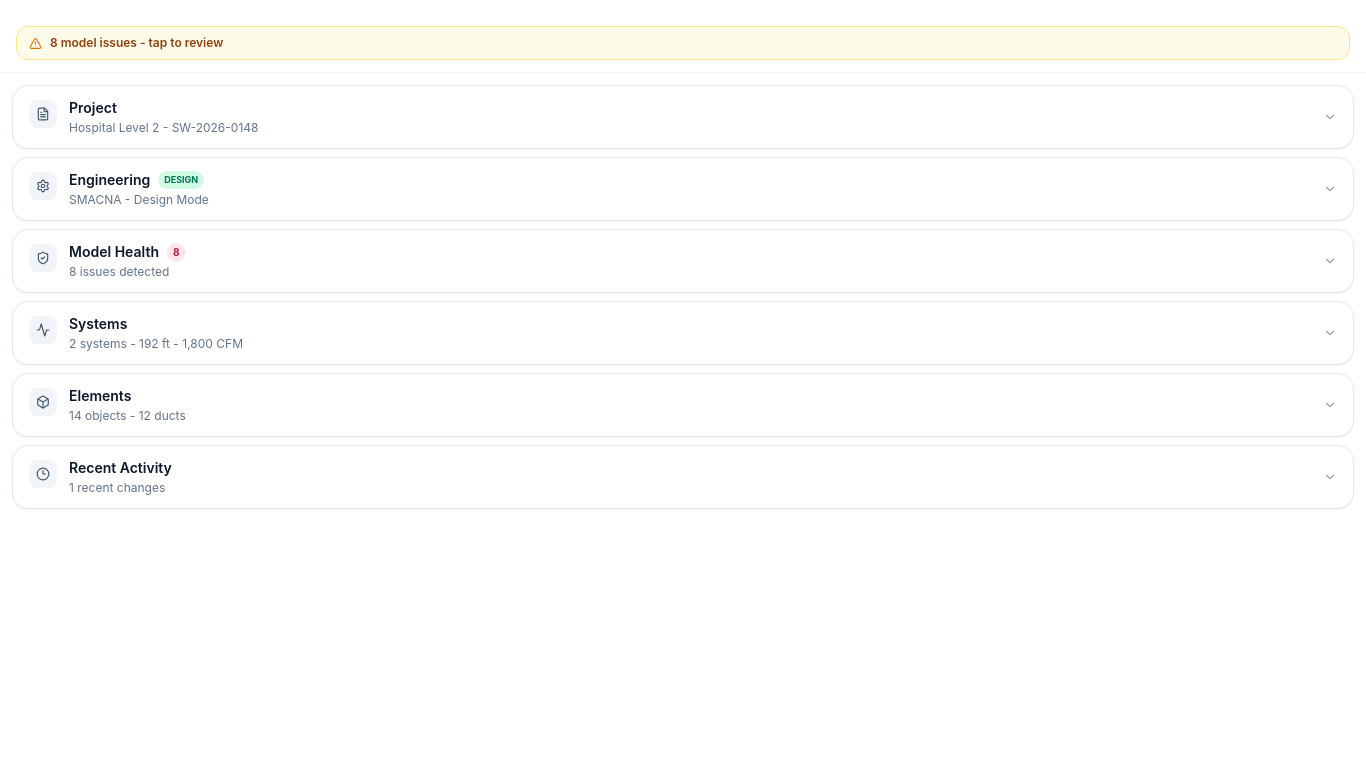
InspectorOverviewPanel › shows activity overflow metadata when history exceeds the visible limit
This screenshot has width=1366, height=768.
What coordinates should you click on to do the following:
click the button "Recent Activity 1 recent changes"
I would click on:
 (120, 468)
Its box is [13, 446, 1353, 508].
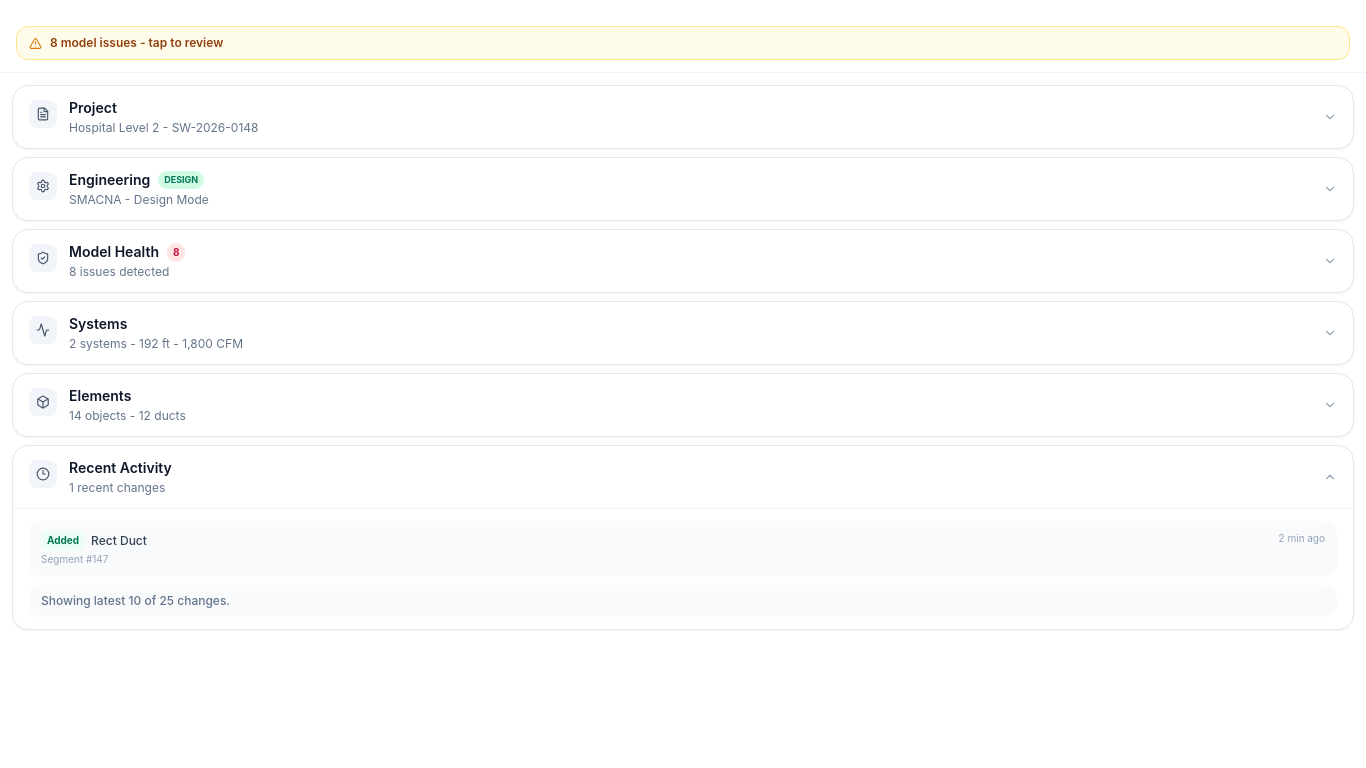
Result: the text "Showing latest 10 of 25 changes." is shown at [29, 585, 1337, 617]
